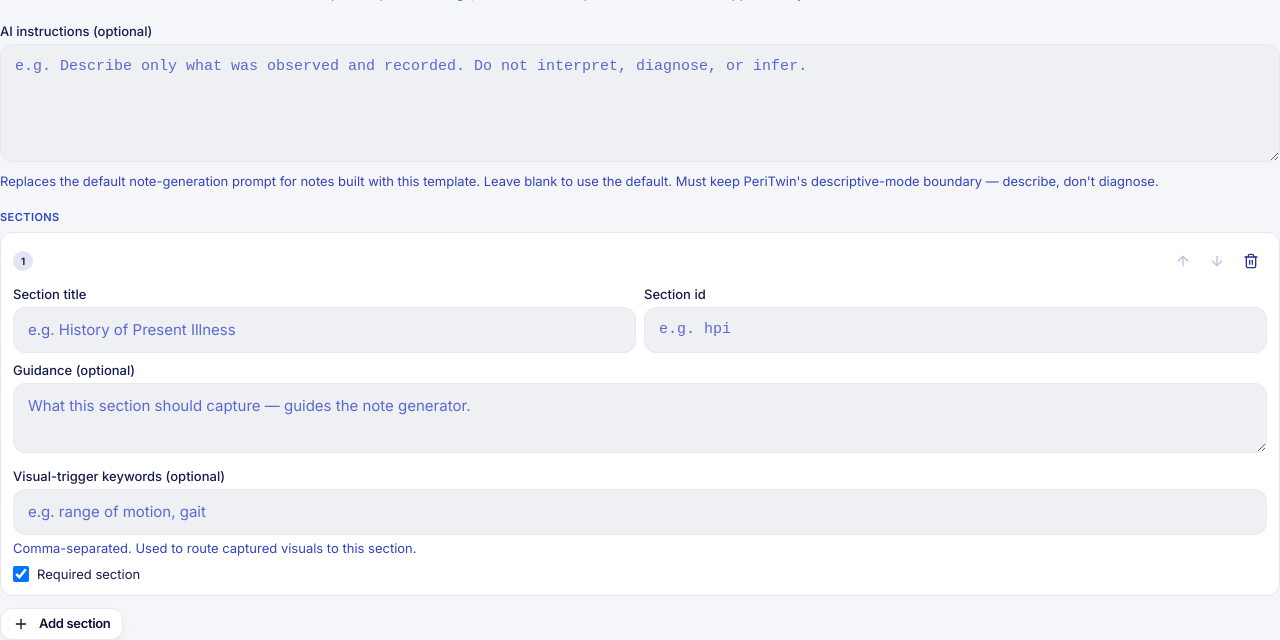
Test: TemplateSectionEditor › adds, edits, and removes sections
(page scrolled)
Expected: the element with test id "section-row-0" is shown, [0, 232, 1279, 596]
// Add a section.
Click the button "Add section".
click(62, 624)  # box [0, 608, 124, 639]
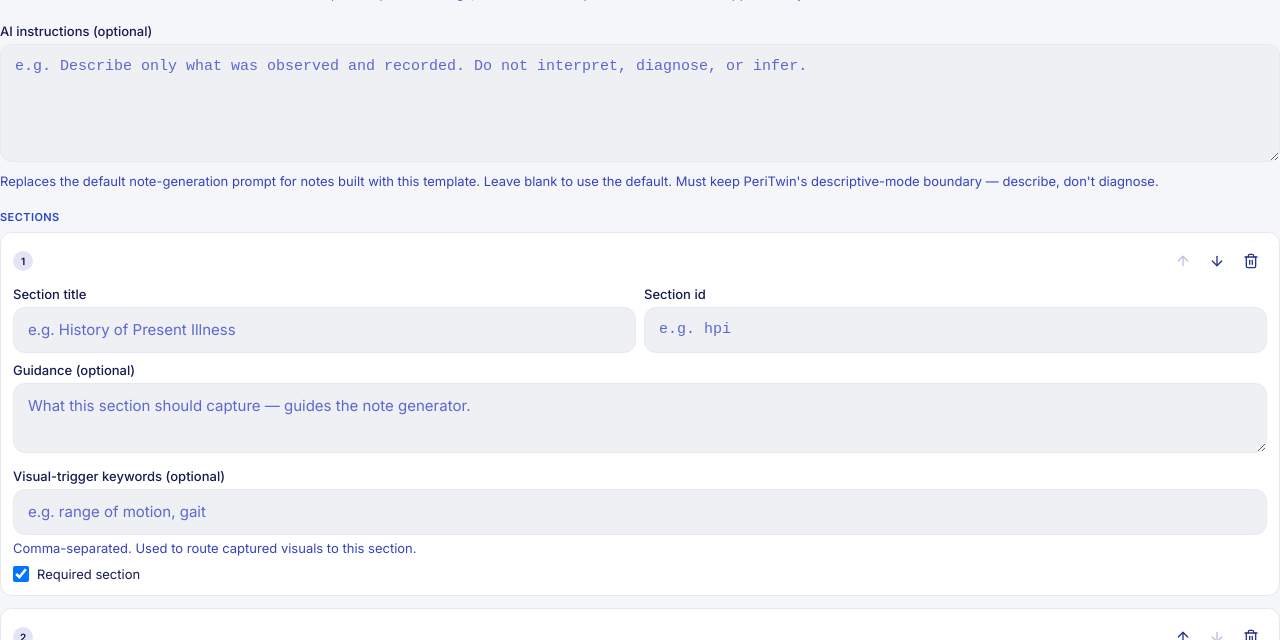
// Edit the first section's title.
Type "History" into the field with test id "section-title-0".
click(324, 330); type("History")  # box [13, 307, 636, 353]
(page scrolled)
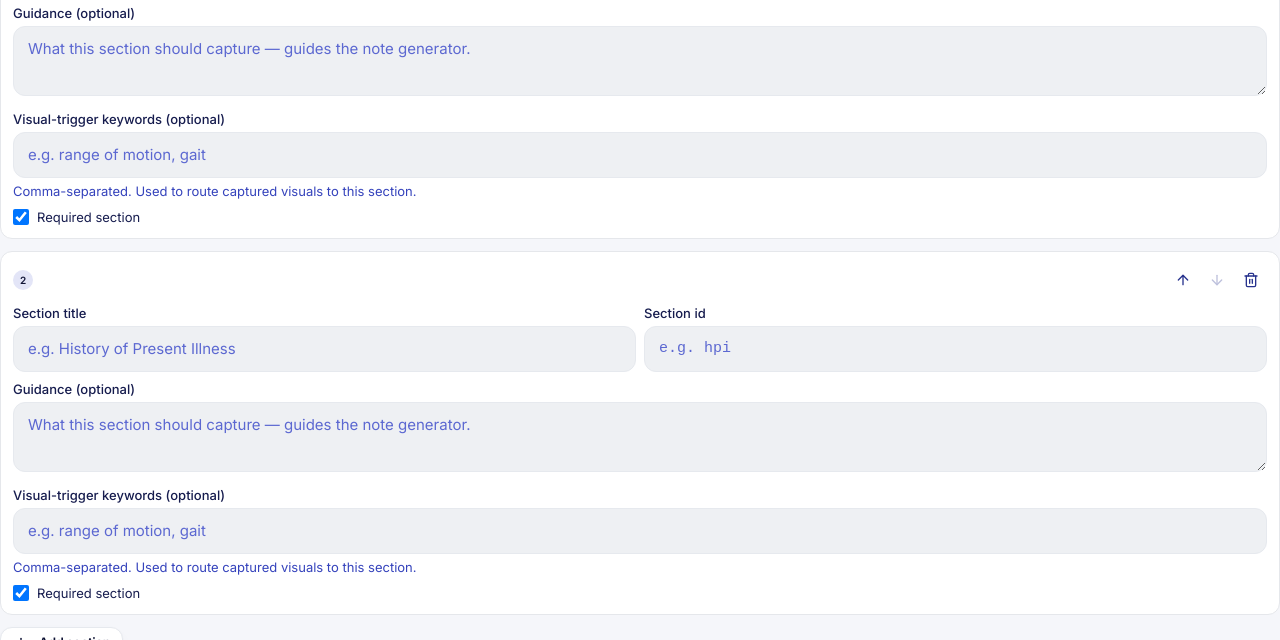
// Remove the second section → back to one.
Click the button with test id "section-remove-1".
click(1251, 280)  # box [1235, 264, 1267, 296]
(page scrolled)
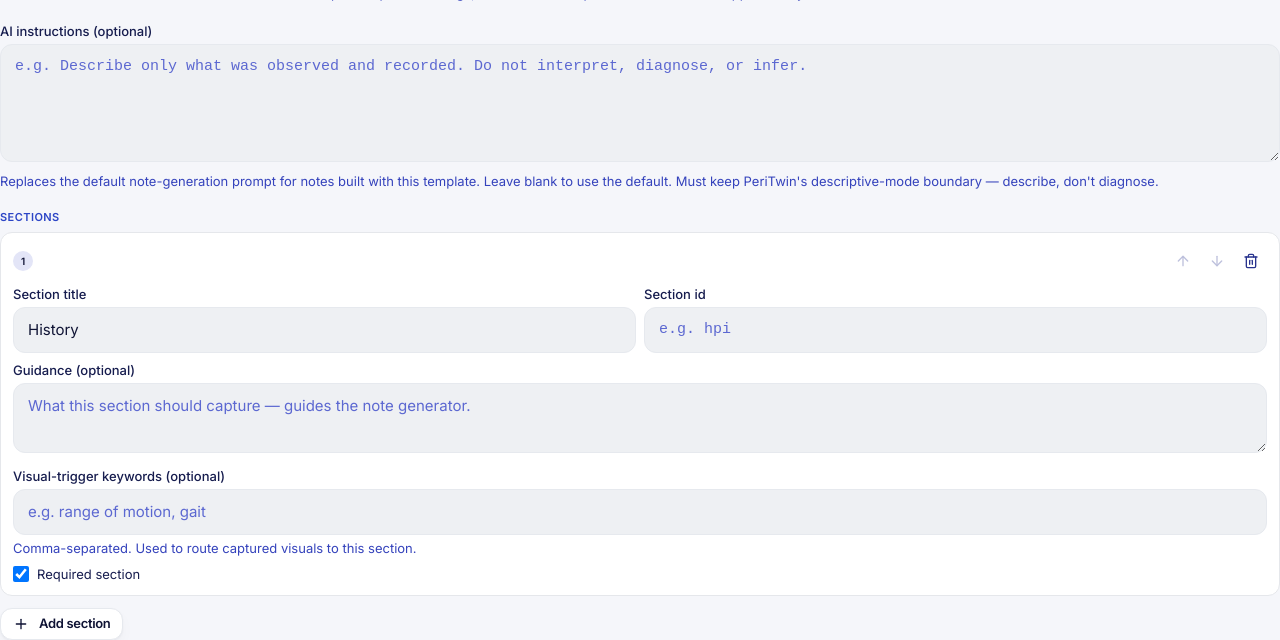
Result: the element with test id "section-row-1" is gone
